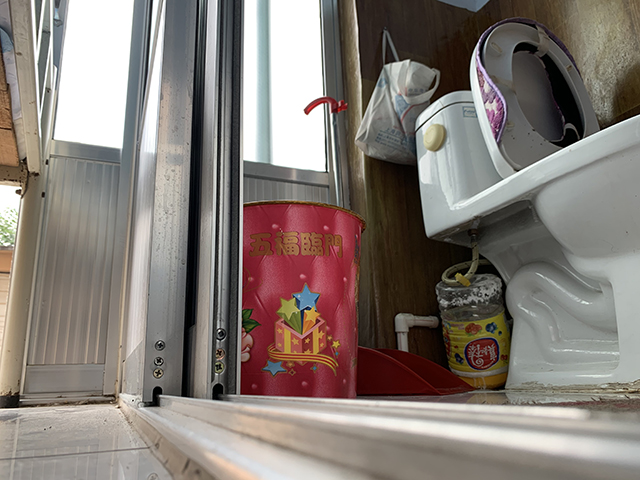closestool: (412, 15, 640, 392)
trashcan: (240, 198, 369, 399)
